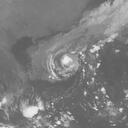cyclone: (46, 46, 81, 81)
